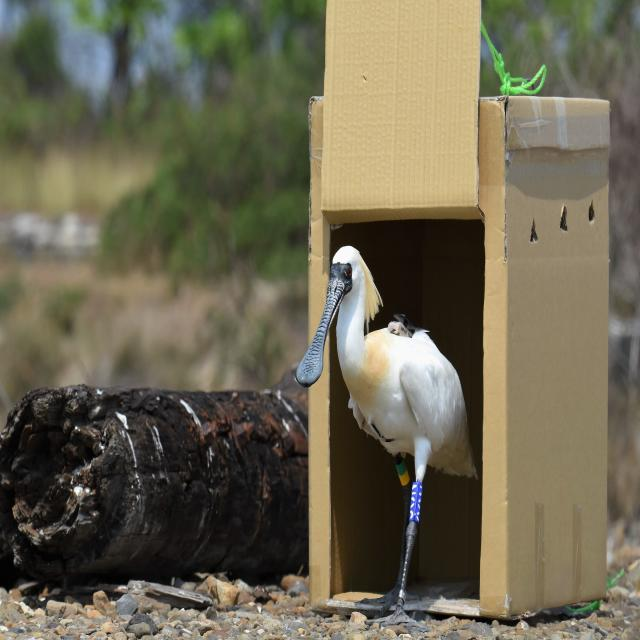Black-faced spoonbill: (296, 246, 476, 623)
